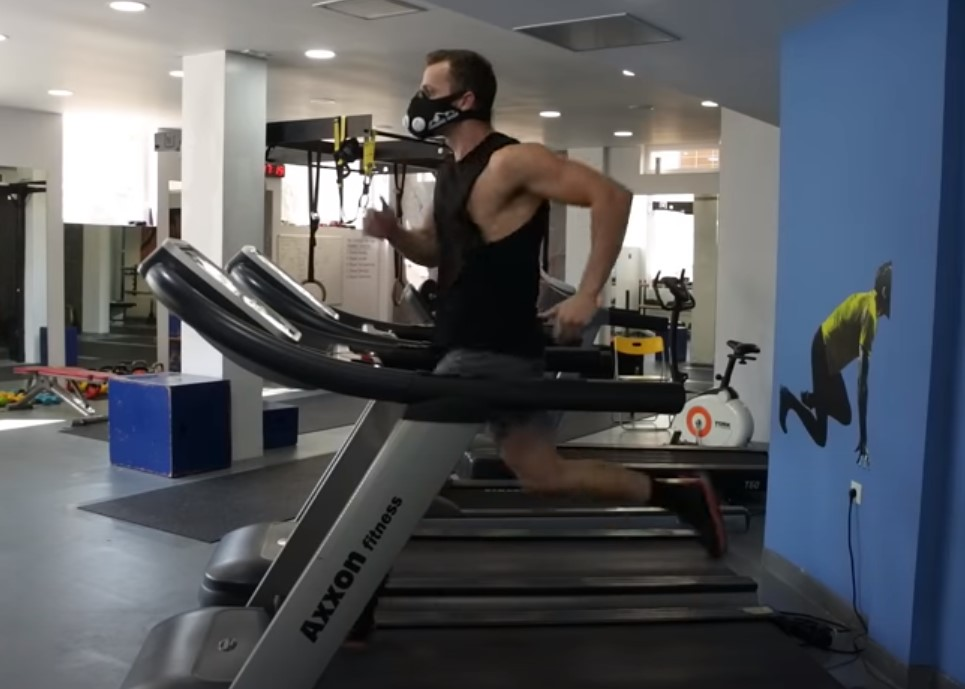face_with_mask: (402, 50, 499, 143)
